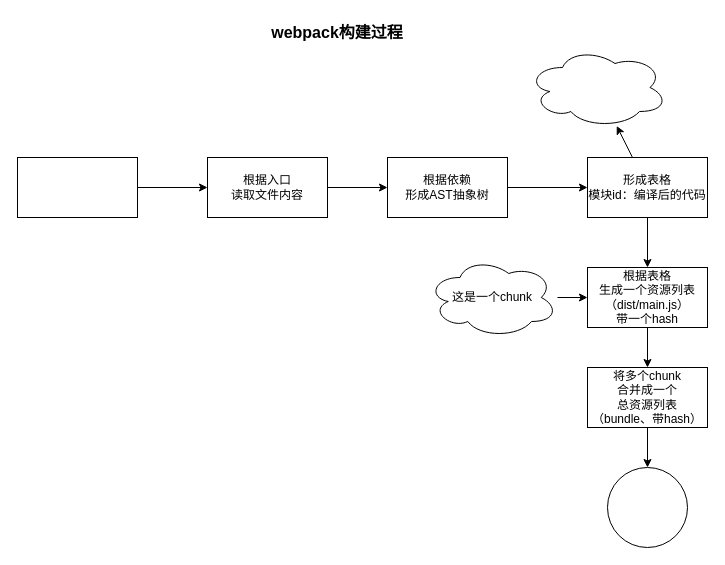
Image size: 725x565. Some labels were removed from this diagram. Here are the shapes that lost their labels. From the top down, the centre of each, then its label:
the point at 597,87: _webpack_require
the point at 77,187: 创建Chunk
the point at 647,507: 使用fs 输出文件（dist）
